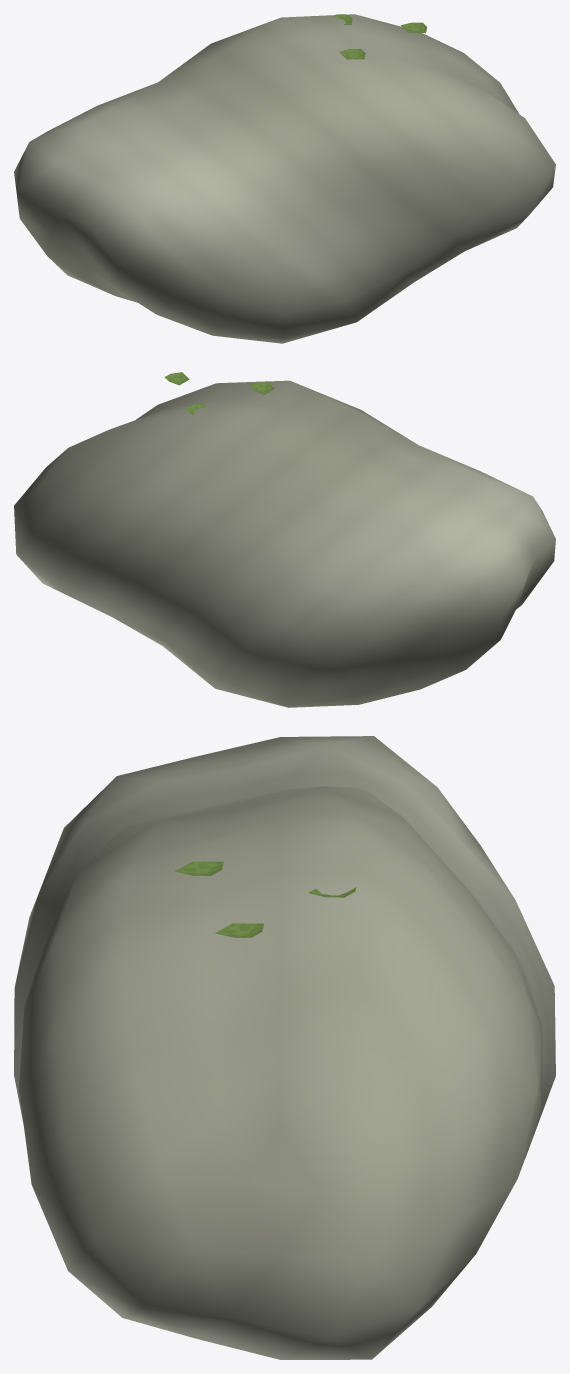
Rendered from rock_shelf.glb.
The picture shows the model from 3 angles, top to bottom: view 1: azimuth 30°, elevation 25°; view 2: azimuth 150°, elevation 25°; view 3: azimuth 270°, elevation 25°; orthographic projection. The views are drawn at different scales.
Parts seen in each view (by area): view 1: rock_shelf; view 2: rock_shelf; view 3: rock_shelf.
Part boxes in pixels (left/top/right/bottom): rock_shelf: left=14, top=14, right=555, bottom=343; rock_shelf: left=14, top=372, right=555, bottom=707; rock_shelf: left=14, top=736, right=555, bottom=1359.
Bounding box in the file's own units: 5.61 × 2.95 × 2.99.
Materials: 1 (1 with a texture image).
